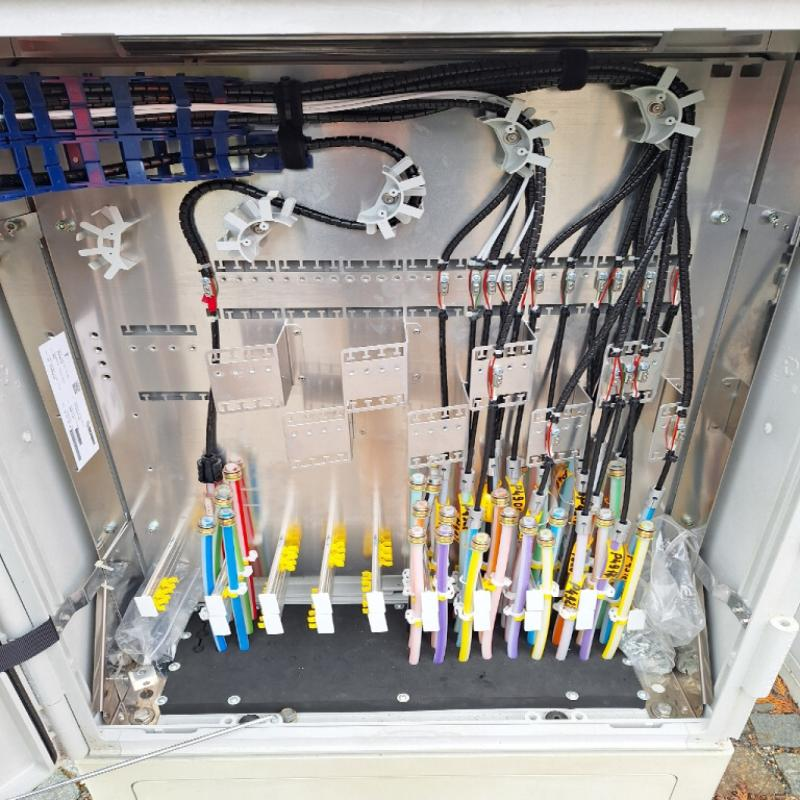NT-Gehause: (0, 0, 800, 771)
